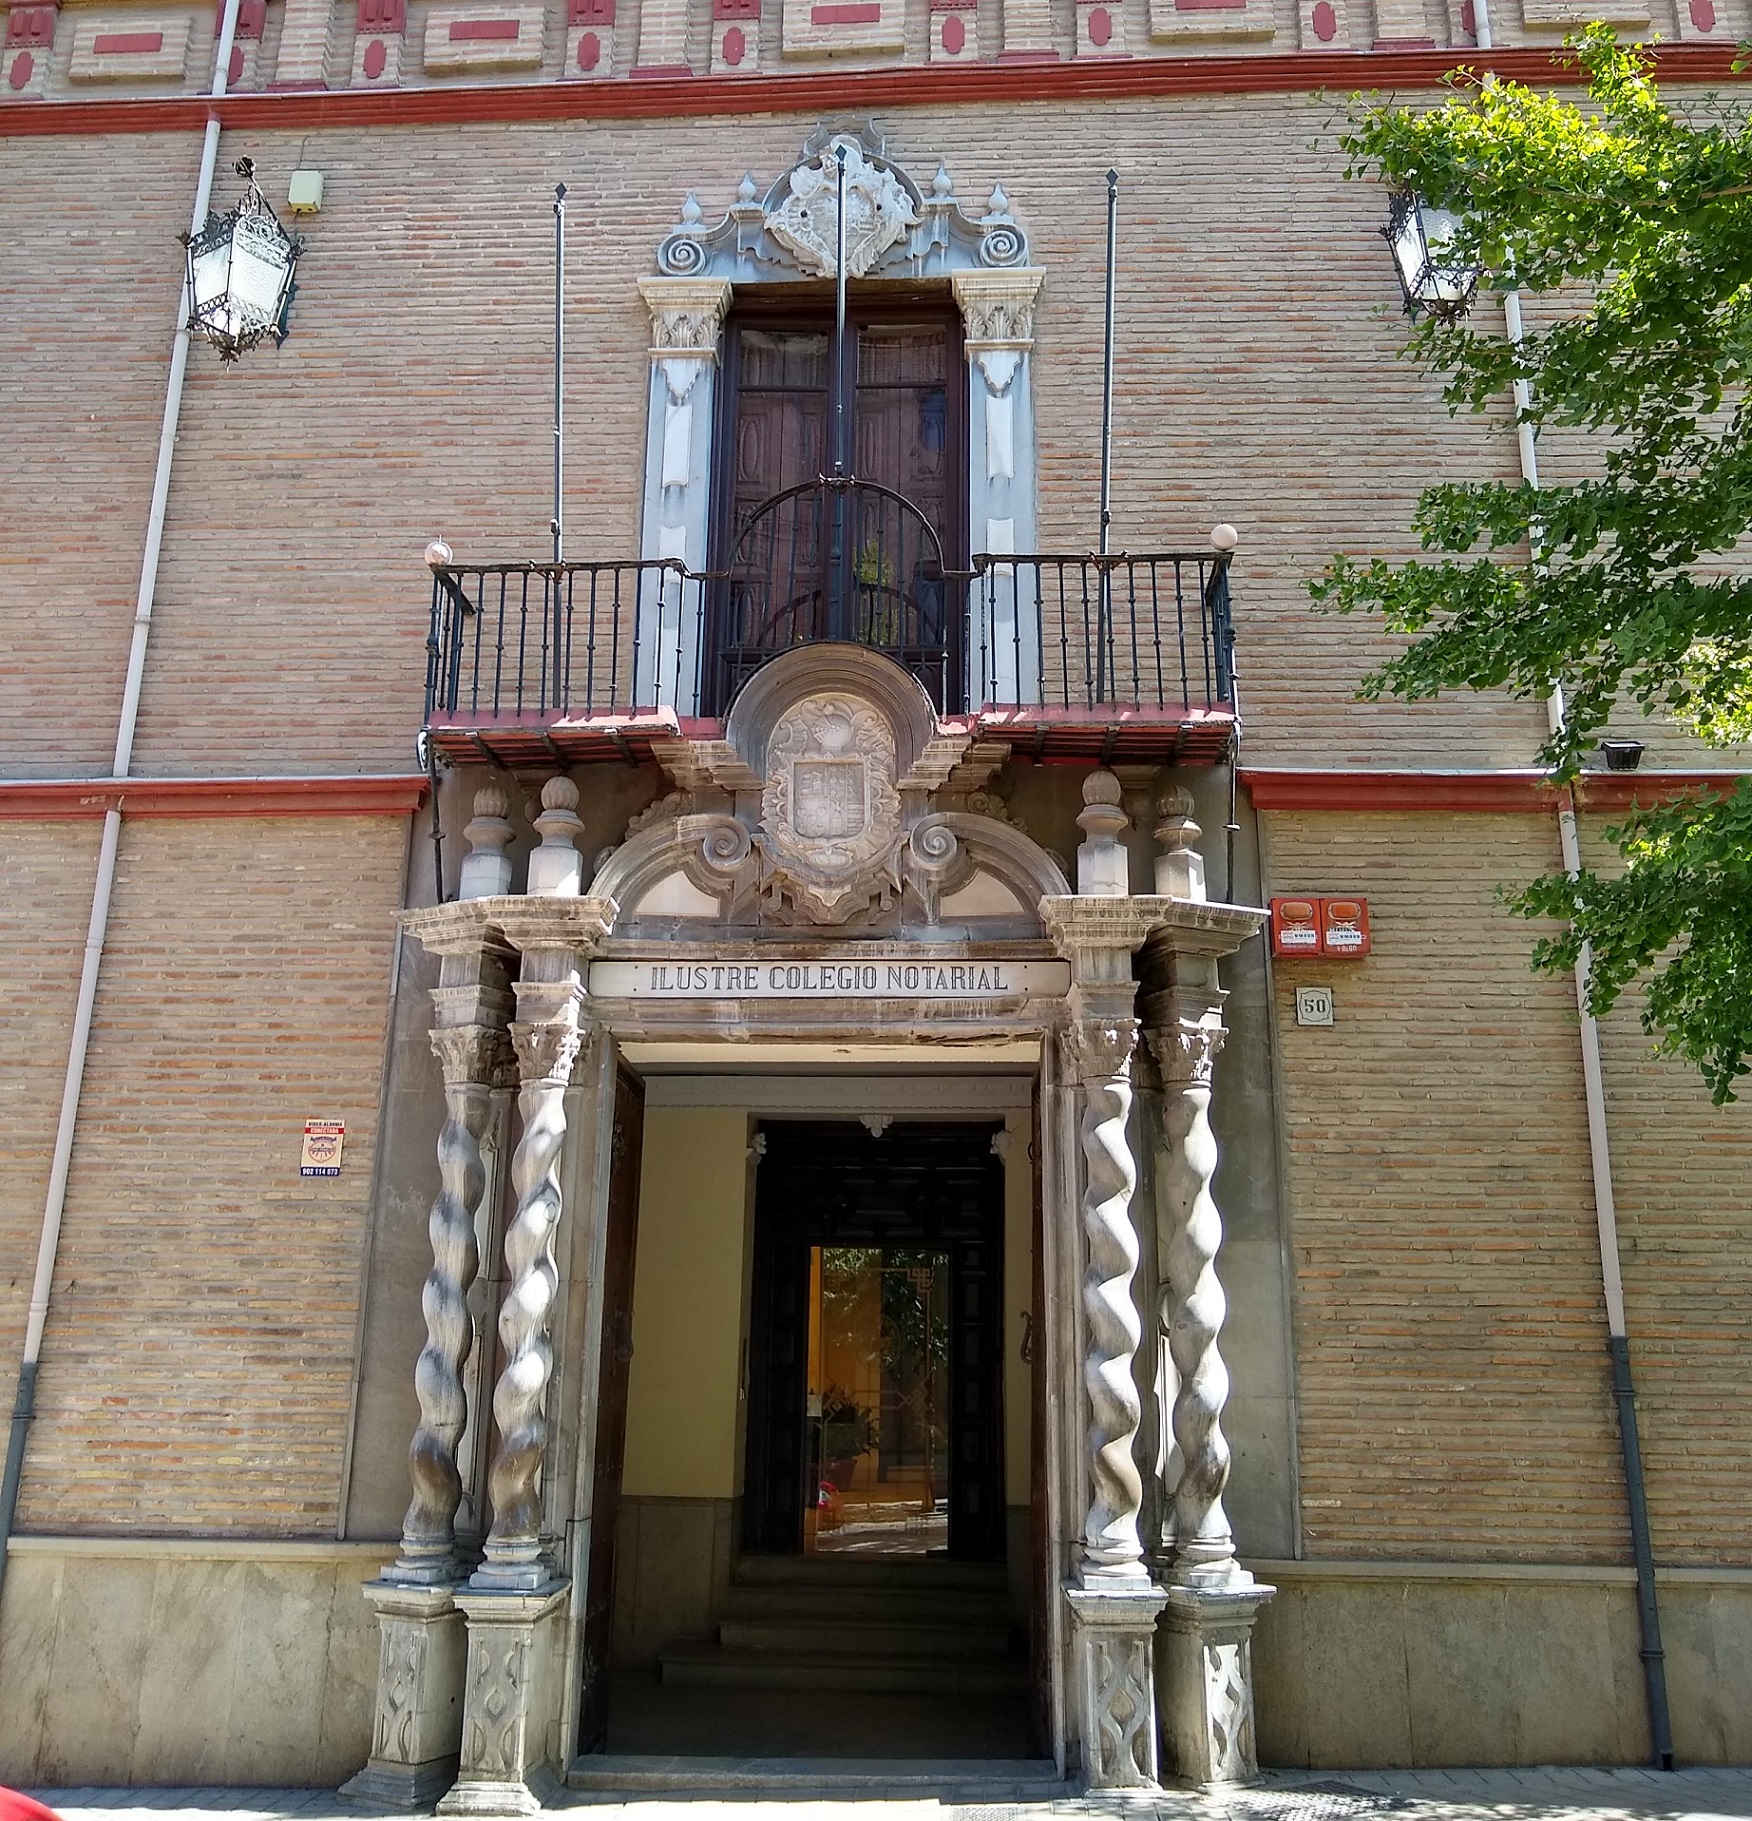columna-salomonica: (1139, 1063, 1250, 1582), (476, 1060, 580, 1588), (397, 1058, 501, 1571), (1060, 1058, 1157, 1580)
fronton-partido: (566, 802, 1069, 976)
vano-adintelado: (546, 1010, 1068, 1779), (670, 263, 1003, 719)
